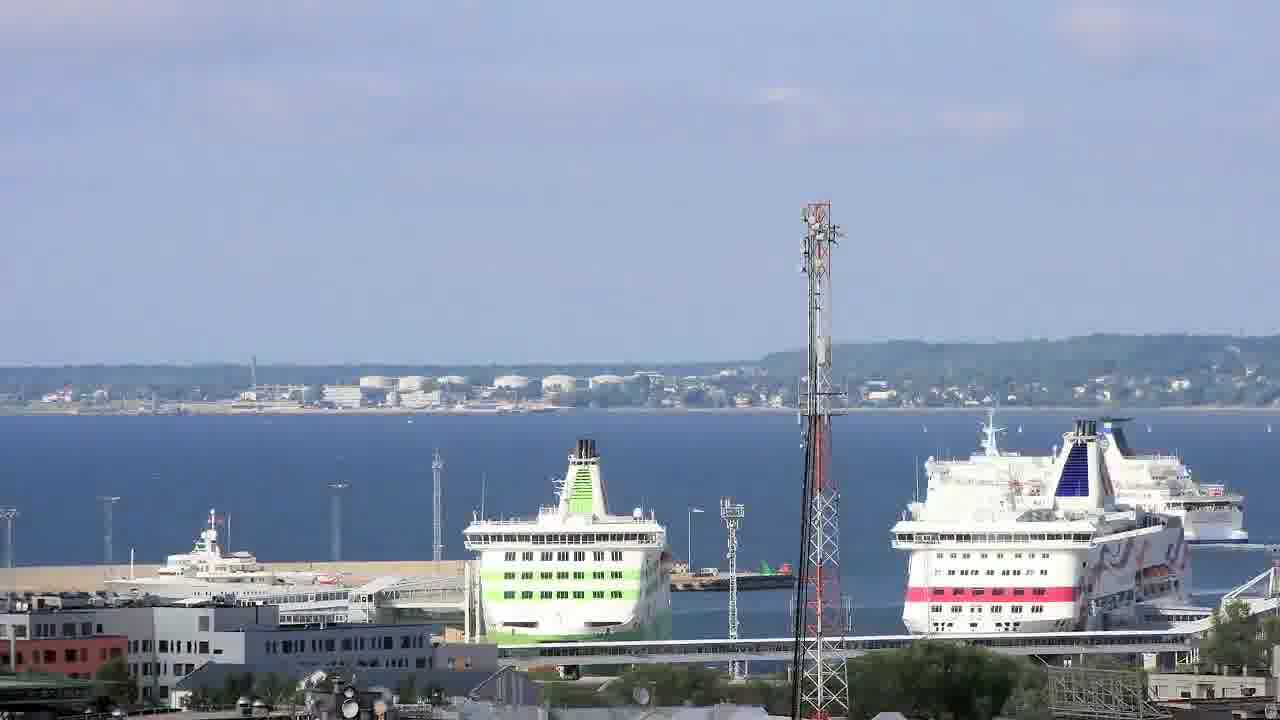type-3: (868, 415, 1225, 638), (915, 379, 1255, 572), (436, 434, 694, 670), (78, 520, 361, 618)
